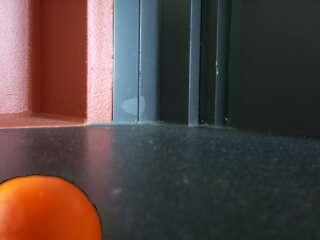Orange: (0, 174, 105, 240)
